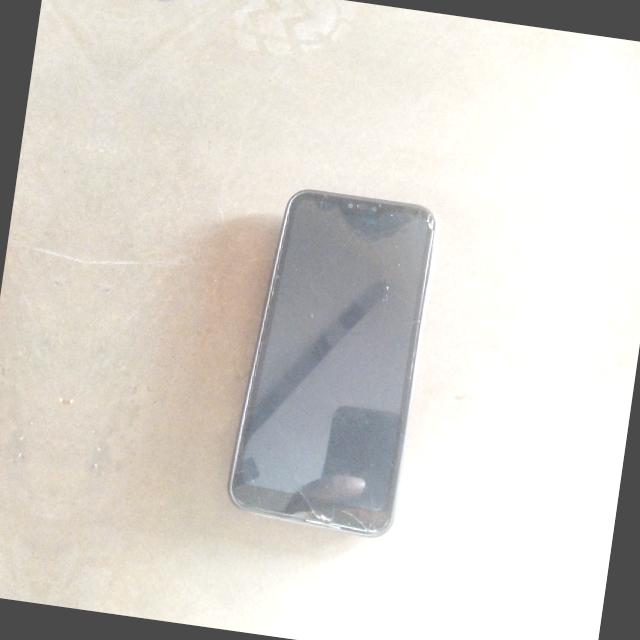phone_screen: (229, 192, 435, 535)
